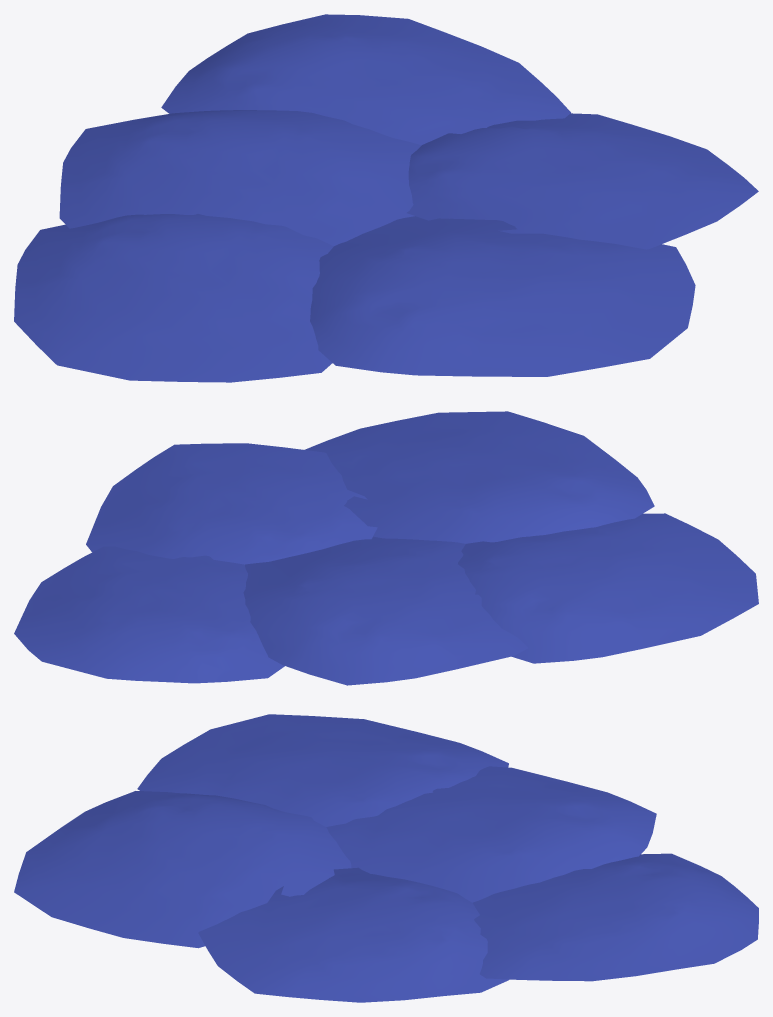
The model's file is Rubble_04A_Lod0.fbx.
3 views of the same model, one above another, from view 1: azimuth 30°, elevation 25°; view 2: azimuth 150°, elevation 25°; view 3: azimuth 270°, elevation 25° (orthographic). The views are drawn at different scales.
Parts seen in each view (by area): view 1: Rubble_04A_Lod0; view 2: Rubble_04A_Lod0; view 3: Rubble_04A_Lod0.
Part boxes in pixels (x1,y1,x2,y2): Rubble_04A_Lod0: (14, 14, 758, 382); Rubble_04A_Lod0: (14, 411, 758, 685); Rubble_04A_Lod0: (14, 714, 758, 1002).
Size of the model in its own units: 774 by 40.59 by 831.
